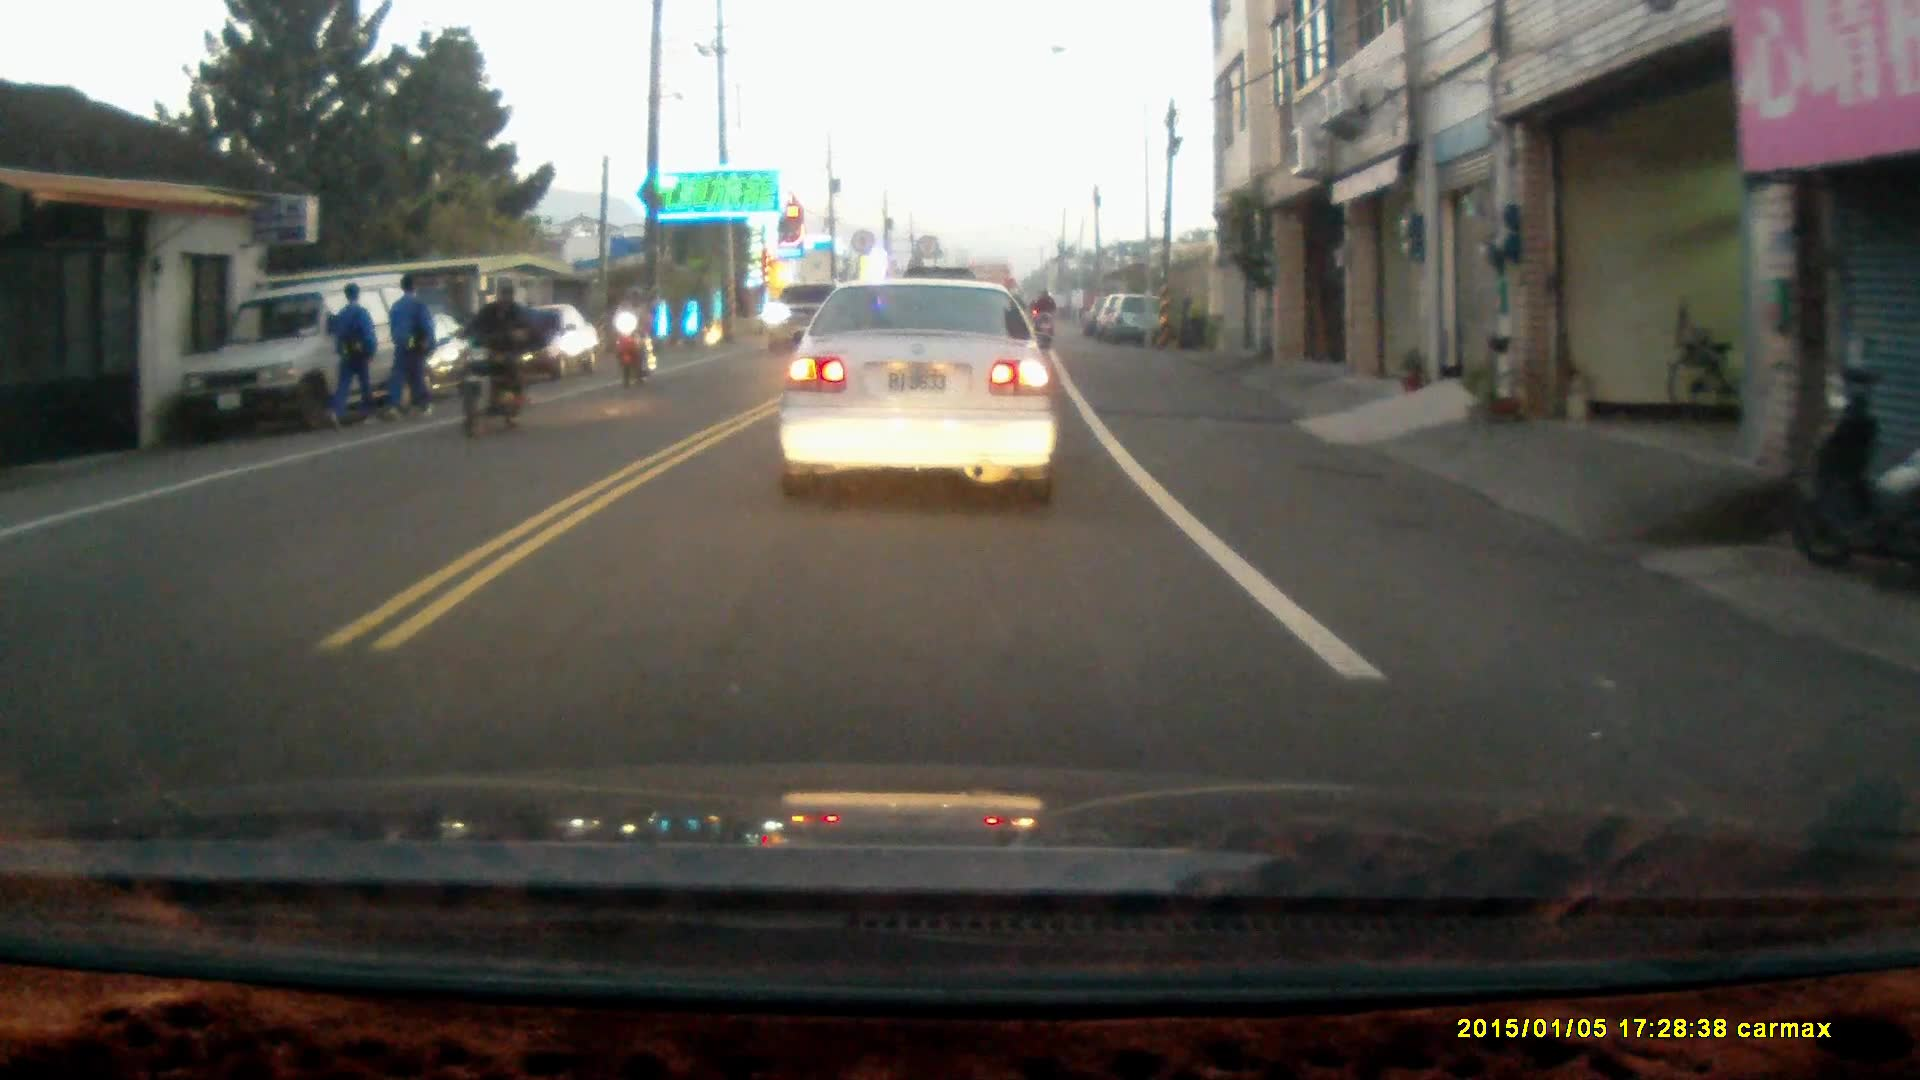pedestrian: (382, 268, 433, 422), (331, 279, 376, 428)
rider: (445, 275, 548, 438), (615, 287, 658, 389)
vehicle: (777, 277, 1061, 510), (180, 275, 432, 432), (463, 305, 596, 383), (1103, 299, 1169, 349)
